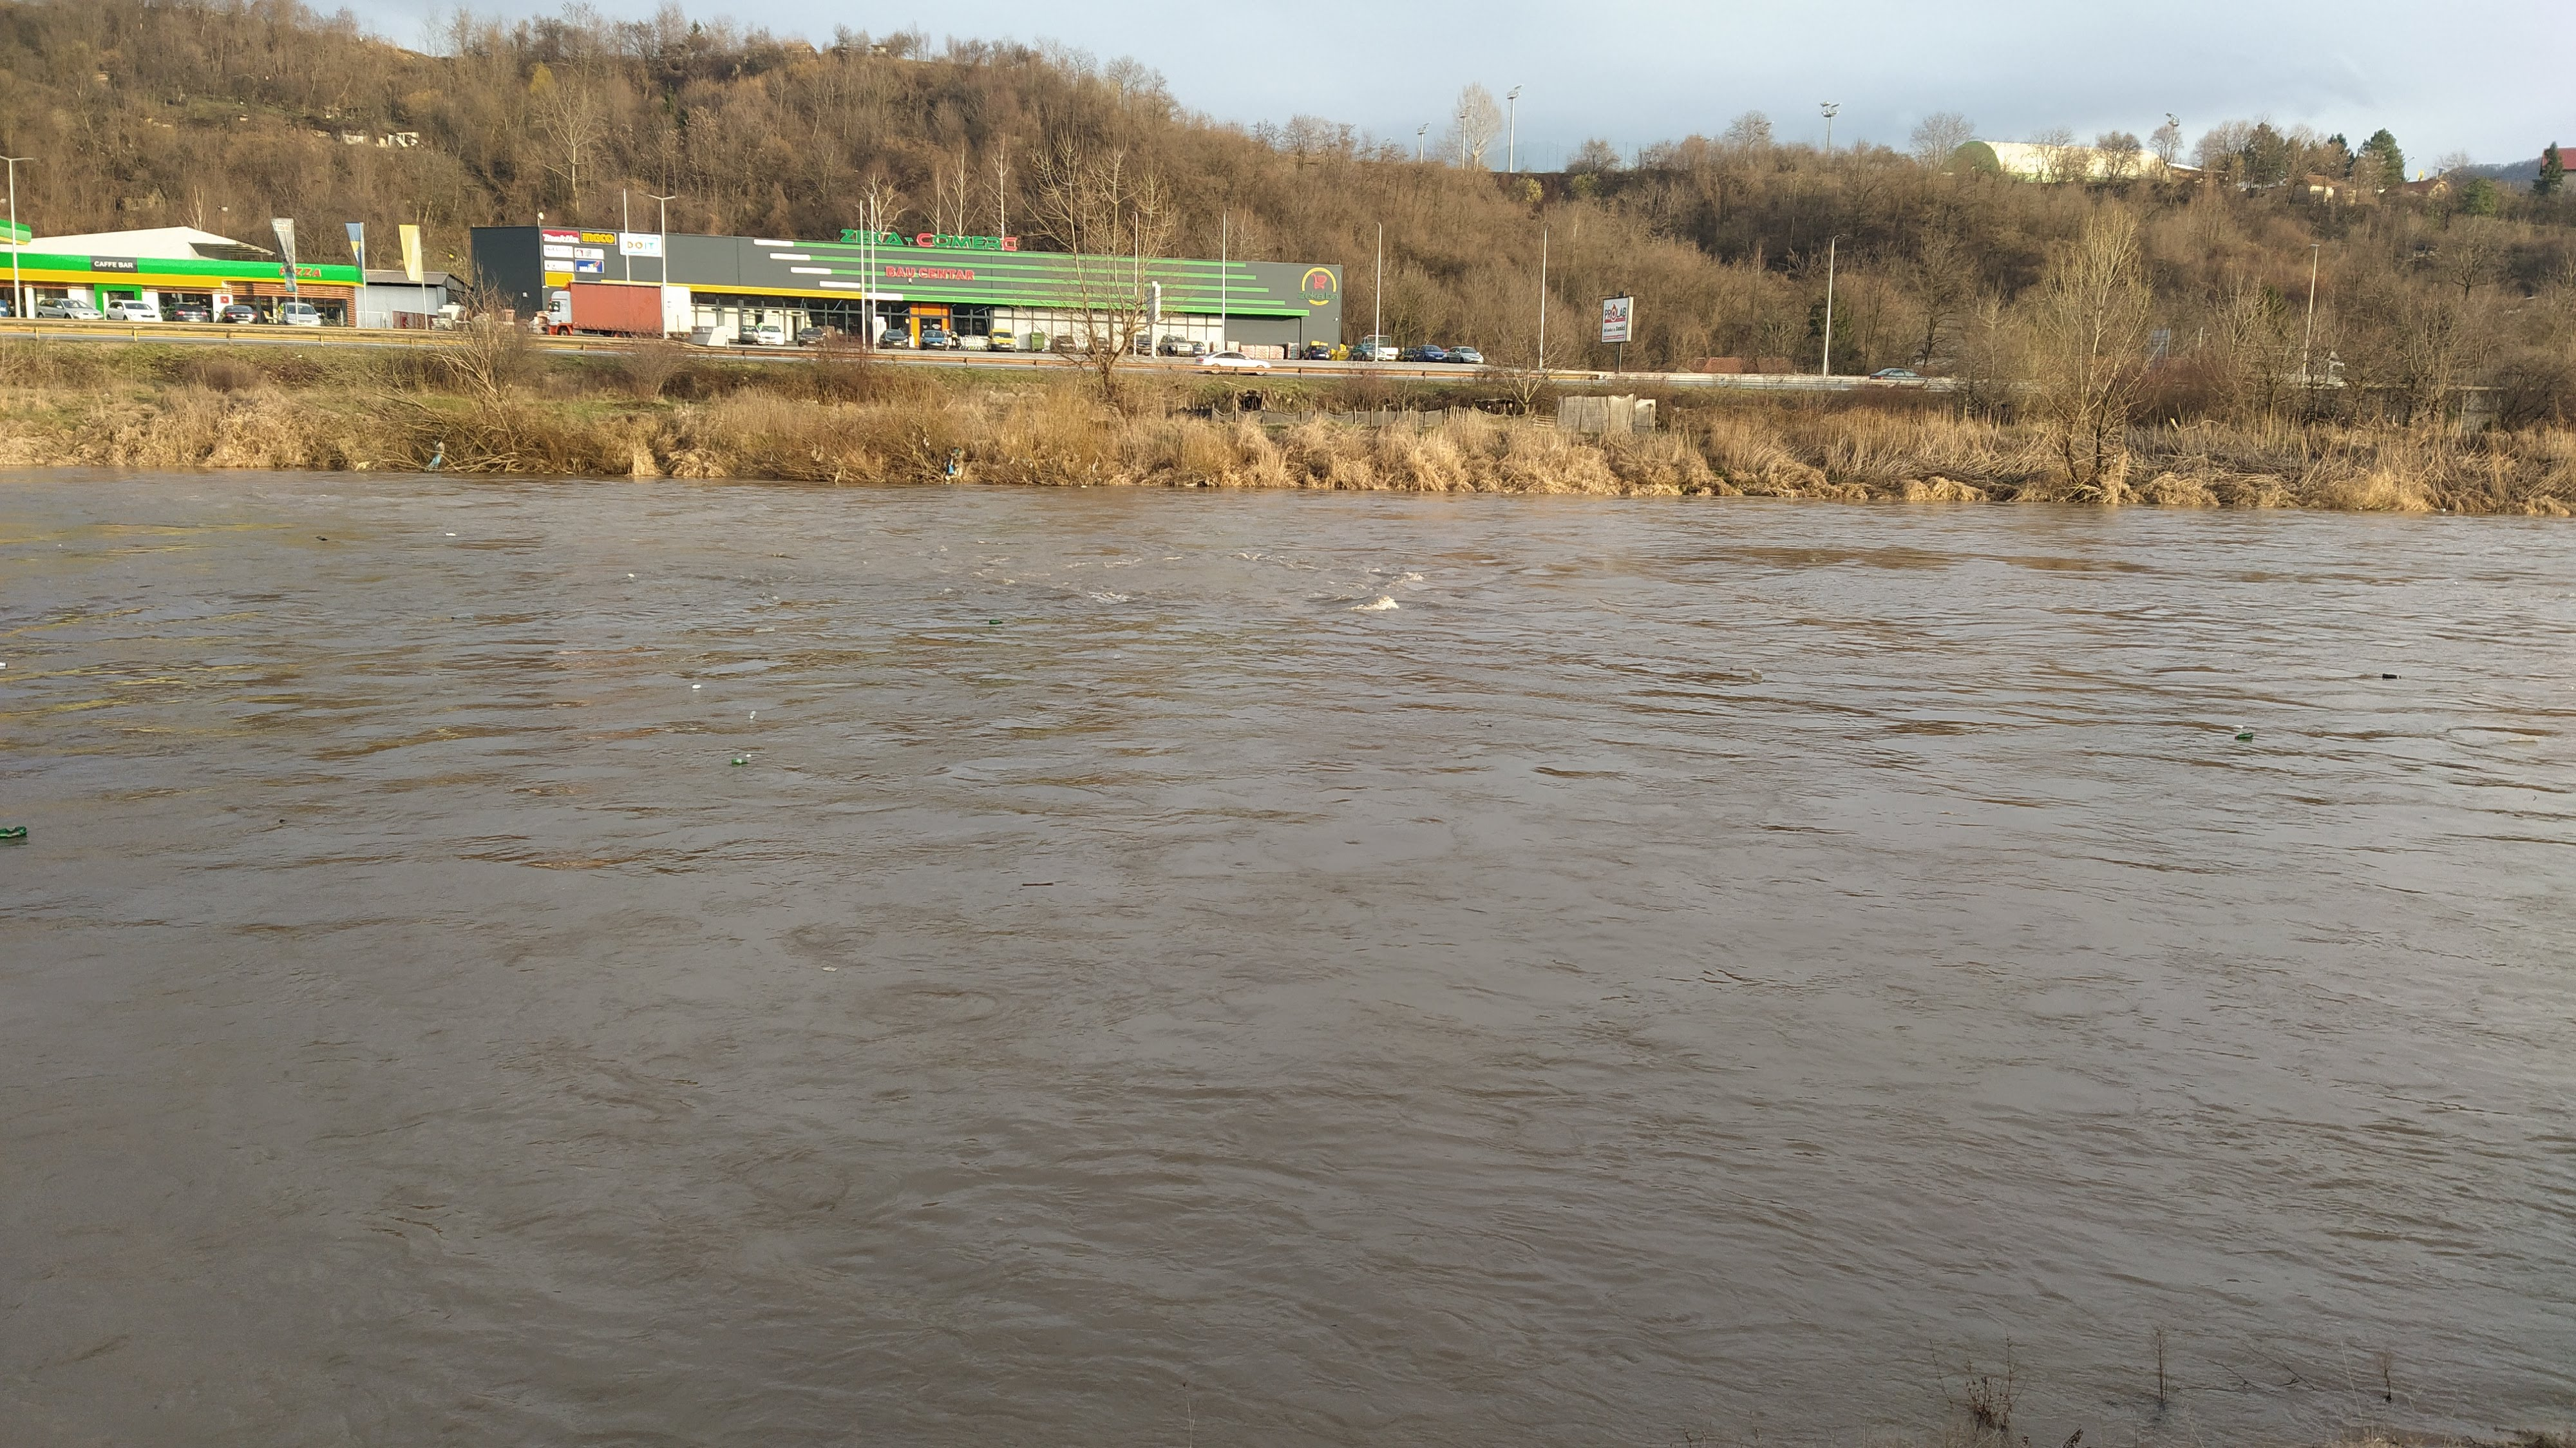Plastic Bottle: (0, 825, 27, 839), (449, 612, 474, 620), (1729, 664, 1755, 669), (752, 627, 775, 632), (731, 758, 747, 765), (2233, 733, 2254, 738), (2381, 674, 2401, 680), (1752, 669, 1762, 676), (989, 620, 1001, 625), (748, 710, 755, 719), (0, 662, 9, 667), (317, 535, 326, 540), (692, 683, 699, 689), (446, 533, 455, 536), (1113, 655, 1120, 659), (628, 572, 633, 575), (2440, 508, 2445, 512)
